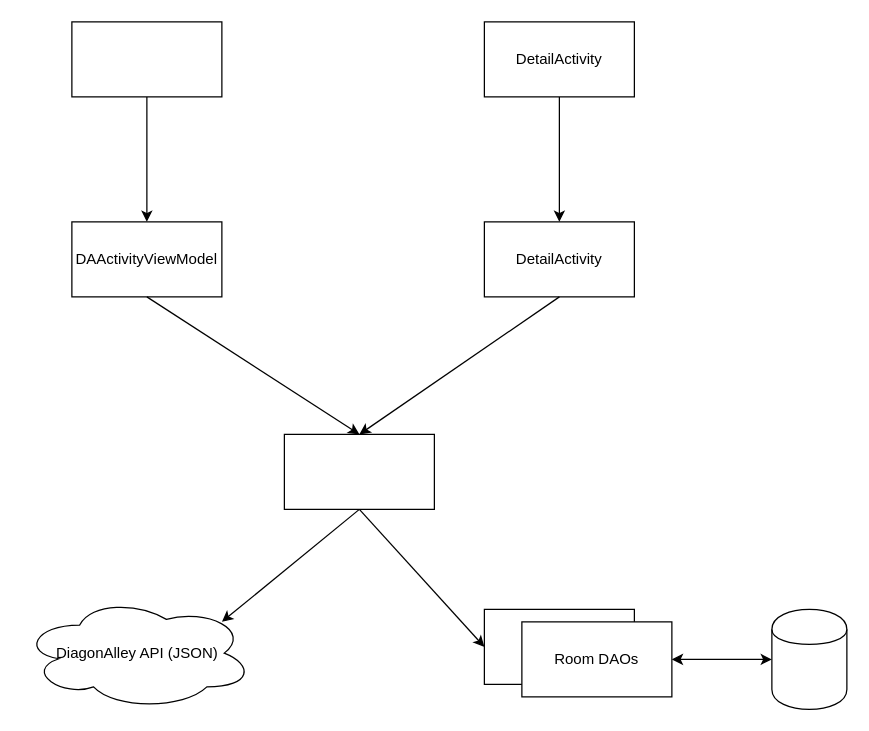
Some shapes in this 869 by 731 pixel diagram are drawn without their labels. The shapes that lost their labels are listed below. From the top down, each one's centre as x and y in pixels, then its label:
the point at 146,59: DAActivity
the point at 358,471: IItemRepository
the point at 809,658: SQLite
